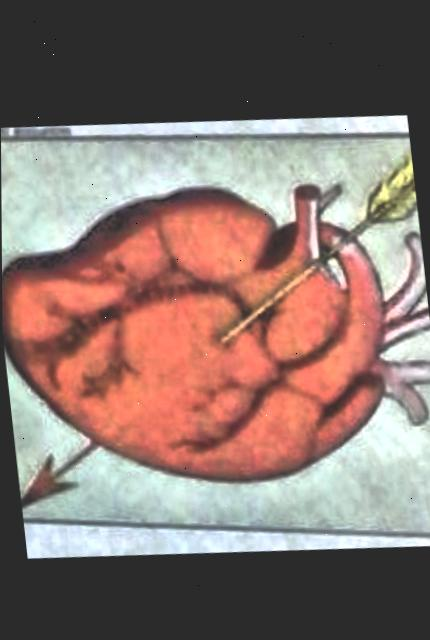El Corazon: (1, 129, 430, 525)
